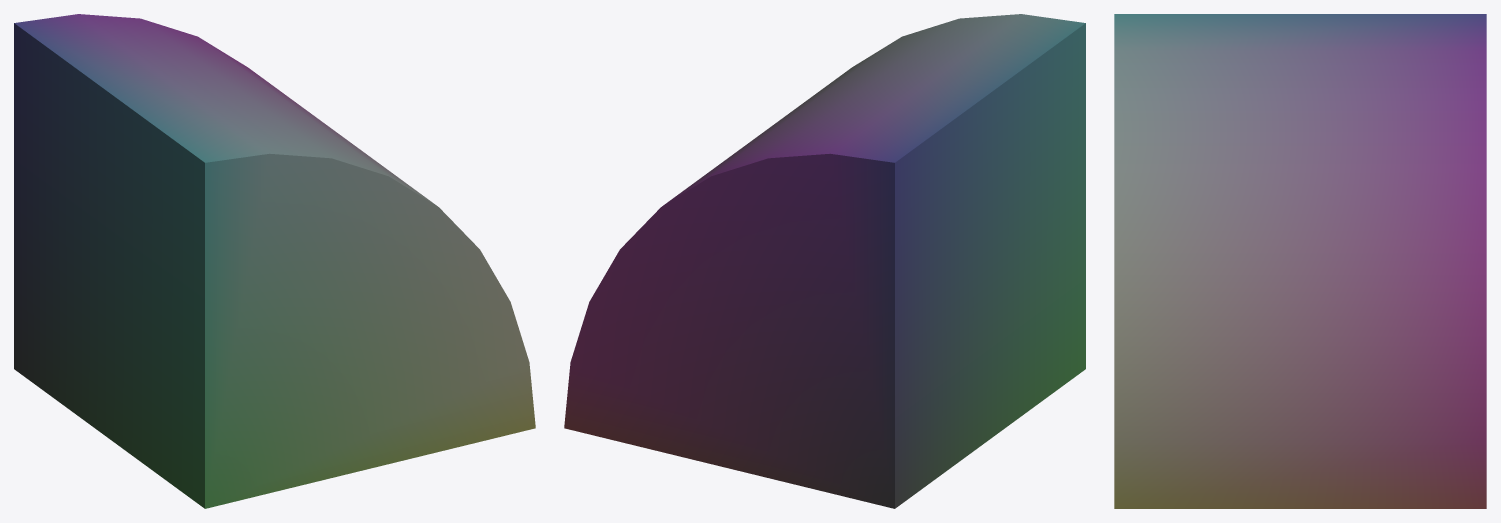
Rendered from SM_ScalableRampRounded.gltf.
3 renders of one model, left to right at view 1: azimuth 30°, elevation 25°; view 2: azimuth 150°, elevation 25°; view 3: azimuth 270°, elevation 25°, orthographic. The views are drawn at different scales.
Parts seen in each view (by area): view 1: SM_ScalableRampRounded; view 2: SM_ScalableRampRounded; view 3: SM_ScalableRampRounded.
Part boxes in pixels (box(x1,y1,x2,y2)): SM_ScalableRampRounded: box(14, 14, 535, 508); SM_ScalableRampRounded: box(564, 14, 1085, 508); SM_ScalableRampRounded: box(1114, 14, 1486, 508).
Bounding box in the file's own units: 0.3 × 0.3 × 0.3.
